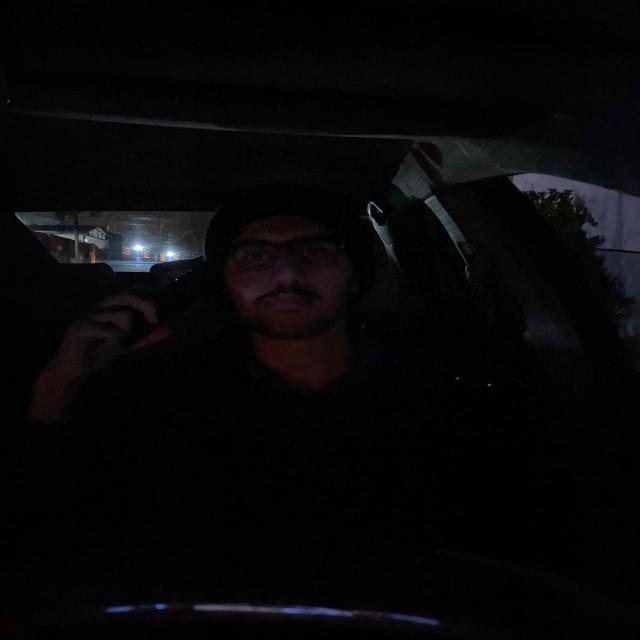mobile: (120, 254, 234, 350)
person: (217, 191, 378, 347)
